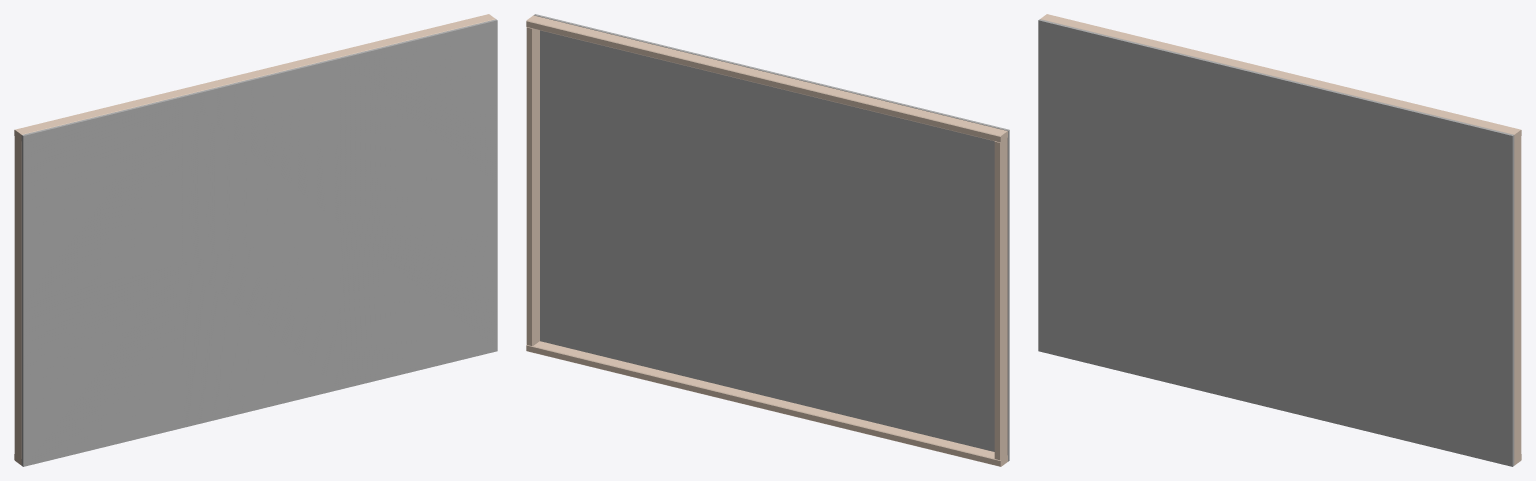
The model's file is Wall.fbx.
3 renders of one model, left to right at view 1: azimuth 30°, elevation 25°; view 2: azimuth 150°, elevation 25°; view 3: azimuth 330°, elevation 25°, orthographic.
Parts seen in each view (by area): view 1: wall, frame; view 2: wall, frame; view 3: wall, frame.
Boxes of the visible parts, x1,y1,x2,y2 form: wall: (21, 19, 497, 466); frame: (14, 14, 495, 465); wall: (534, 14, 1009, 461); frame: (526, 15, 1007, 466); wall: (1038, 19, 1514, 466); frame: (1040, 14, 1521, 465).
Size of the model in its own units: 366 by 244 by 12.
